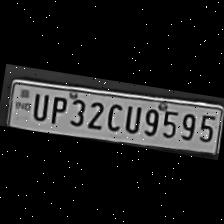2: (84, 96, 107, 131)
3: (64, 94, 88, 129)
5: (194, 110, 218, 146), (156, 106, 180, 140)
9: (139, 104, 161, 138), (177, 108, 199, 142)
C: (101, 99, 124, 133)
P: (44, 92, 68, 127)
U: (120, 100, 144, 136), (28, 89, 50, 122)
